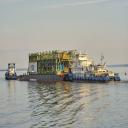tugboat: (69, 50, 122, 85), (5, 62, 28, 82)
